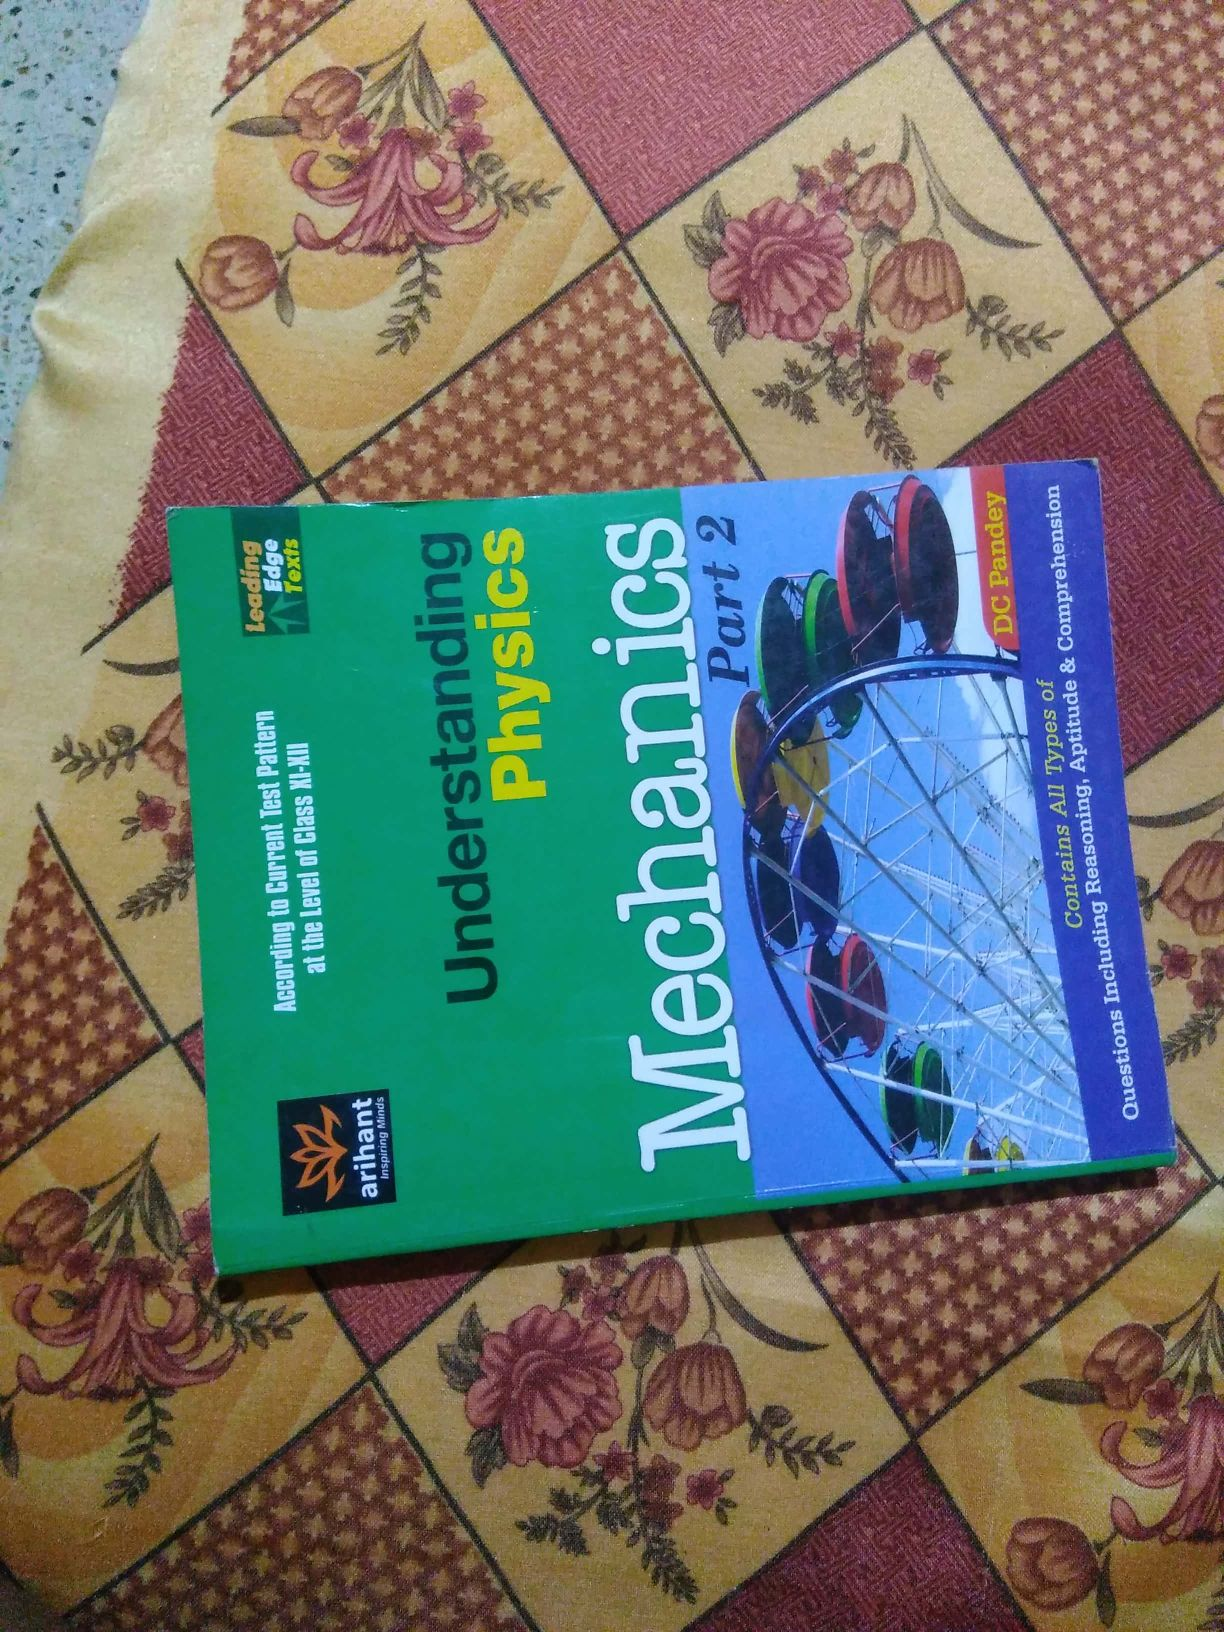mechanics: (87, 443, 1224, 1255)
